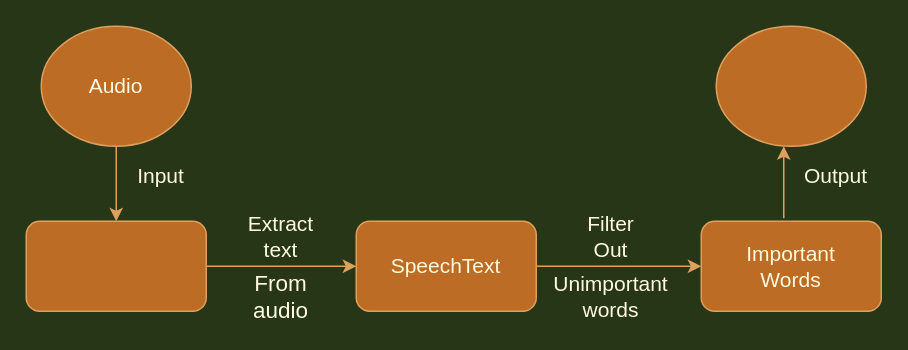
Image size: 908x350. Some labels were removed from this diagram. The shapes that lost their labels are listed below. From the top down, each one's centre as x and y in pixels, then its label:
At point 790,85: "Wordcloud".
At point 115,265: "Program".
